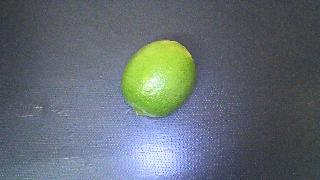EXPORTACION: (121, 40, 196, 117)
